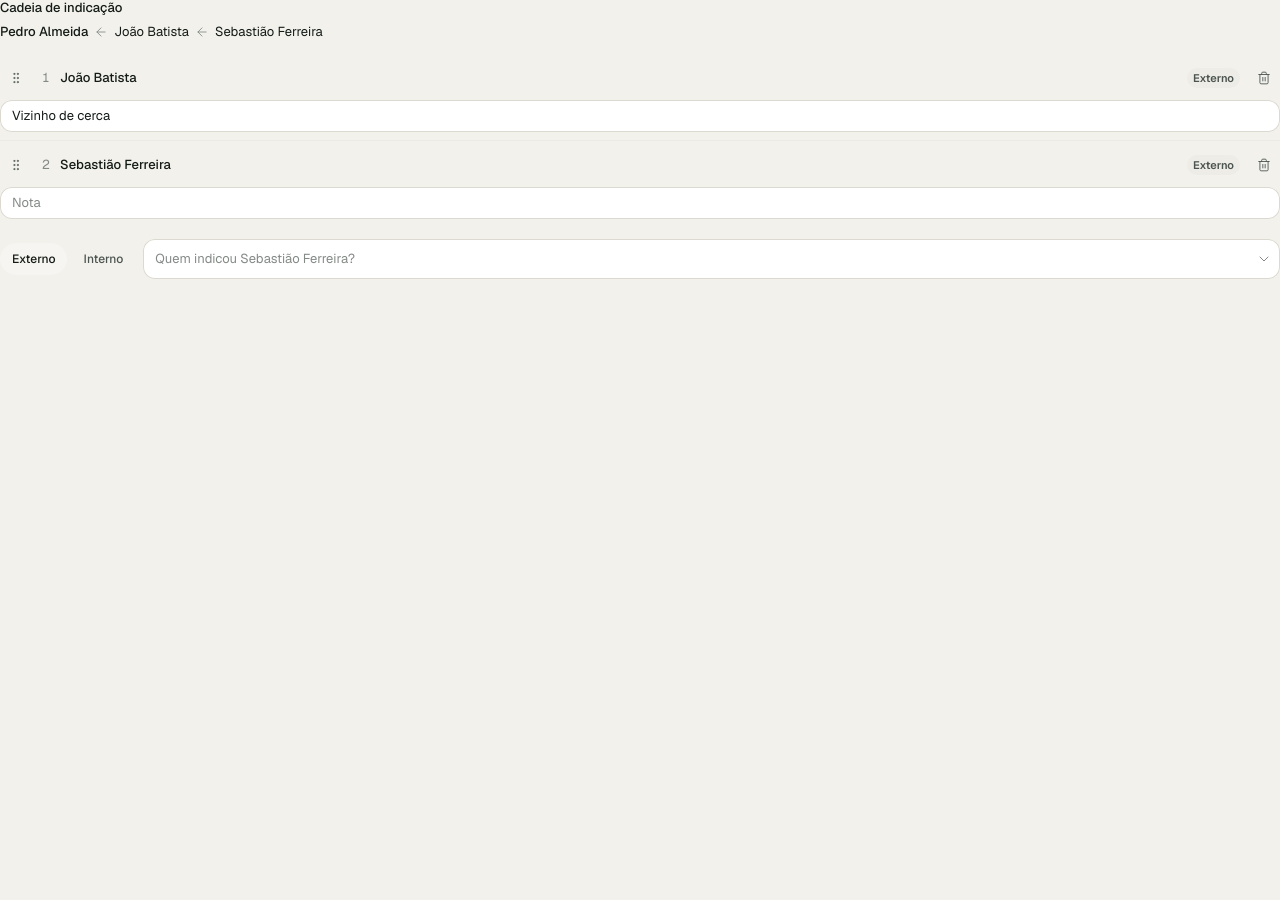
Test: ReferralChainEditor — edição › acrescenta o contato escolhido ao fim, sem oferecer o sujeito nem quem já está na cadeia
Click the dropdown named "Cadeia de indicação": x=255, y=258 [155,239,1250,279]
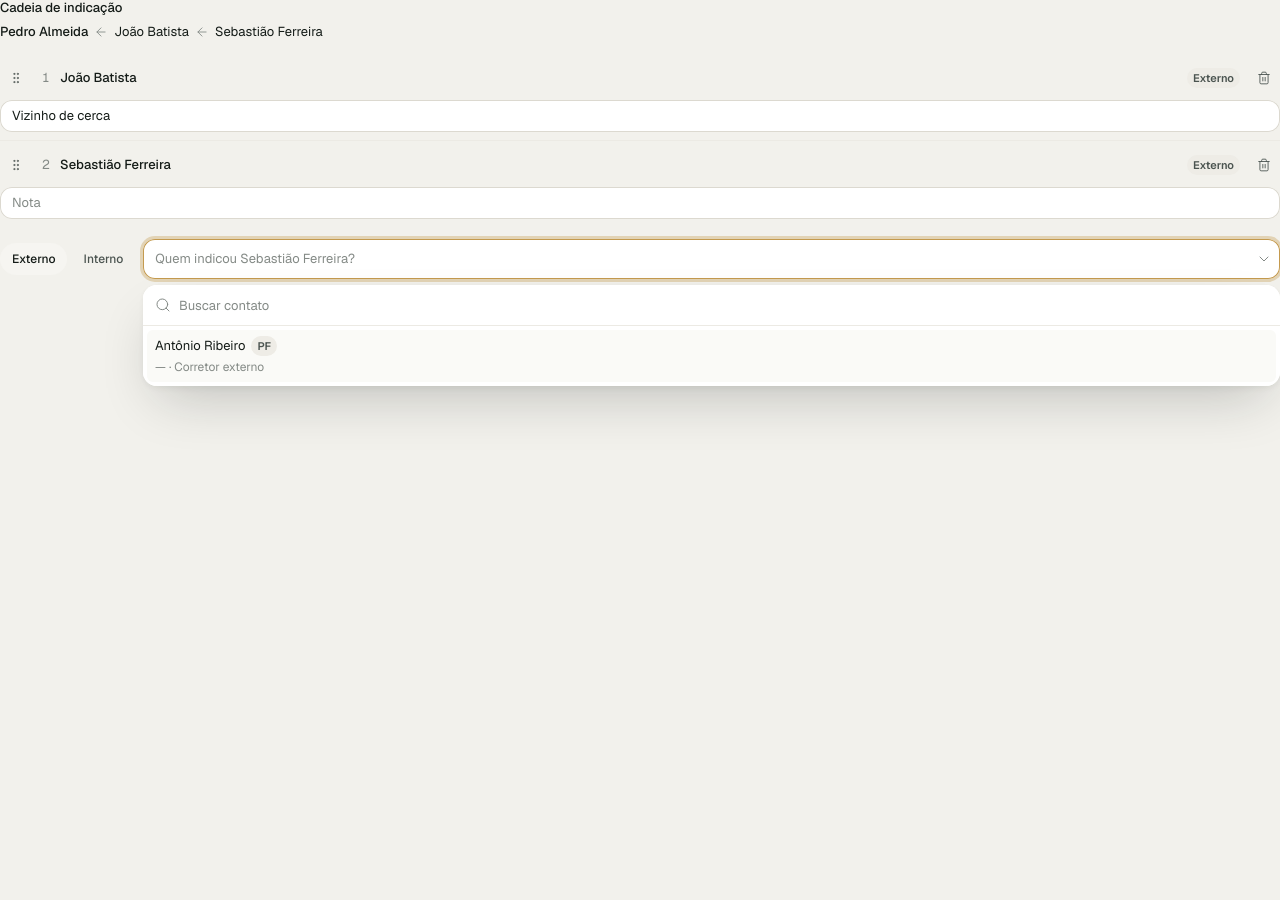
Expected: the option shows "Corretor externo"
Click the option "Antônio Ribeiro PF — · Corretor externo": x=200, y=346 [147,330,1276,382]
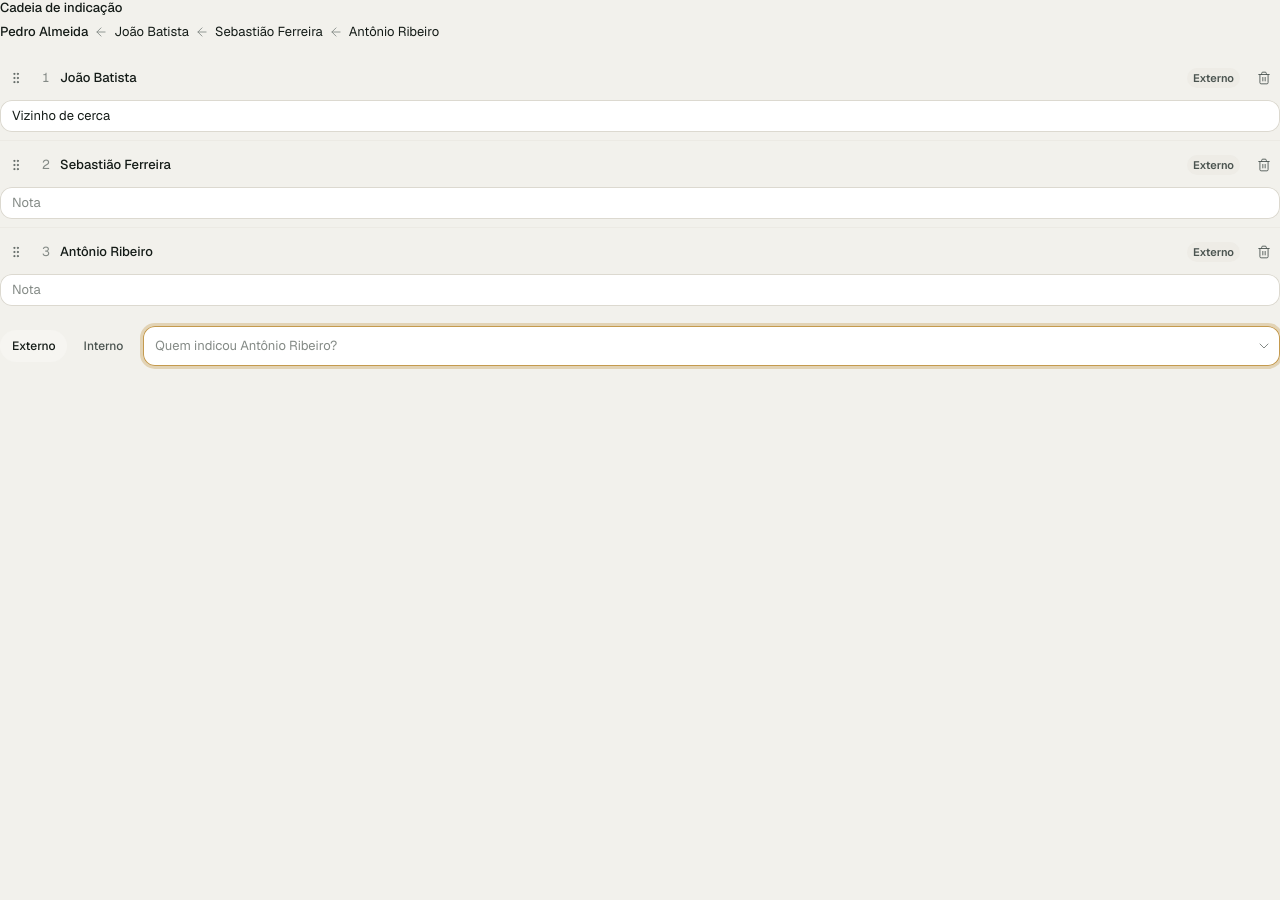
Expected: the number of list items is 3, [0,54,1279,141]; [0,141,1279,228]; [0,228,1279,314]
